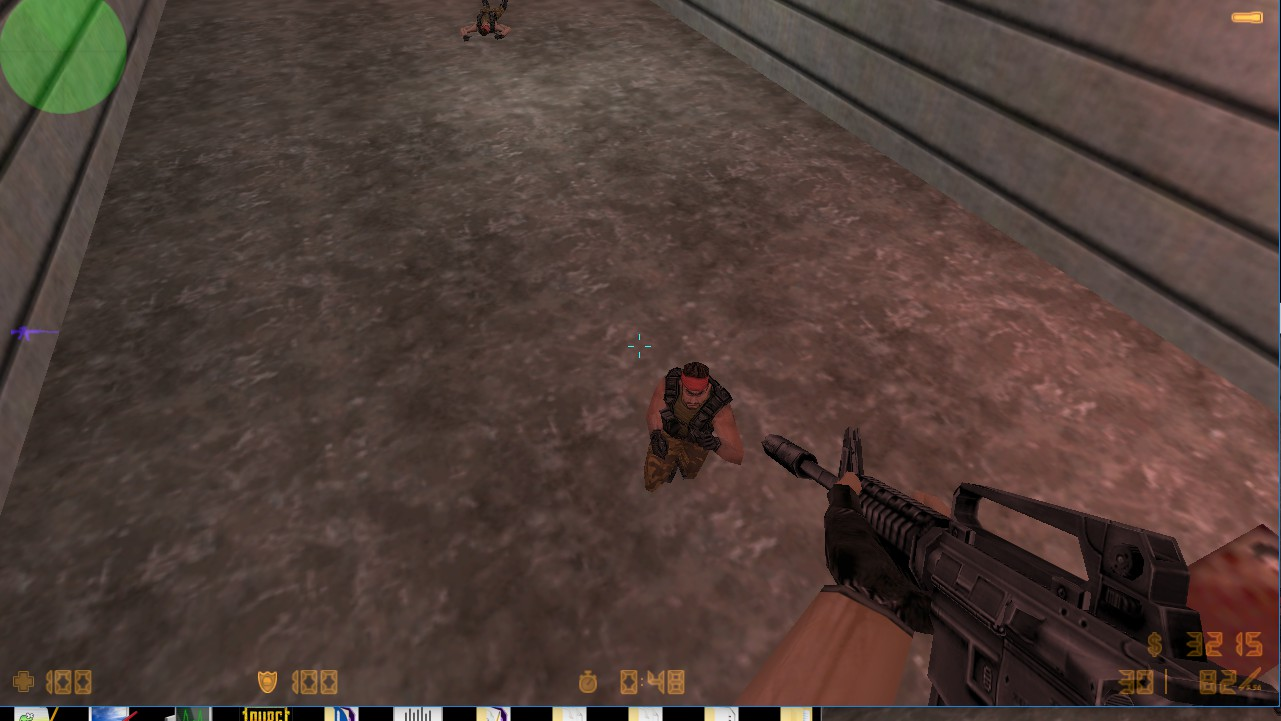person: (631, 349, 757, 512)
